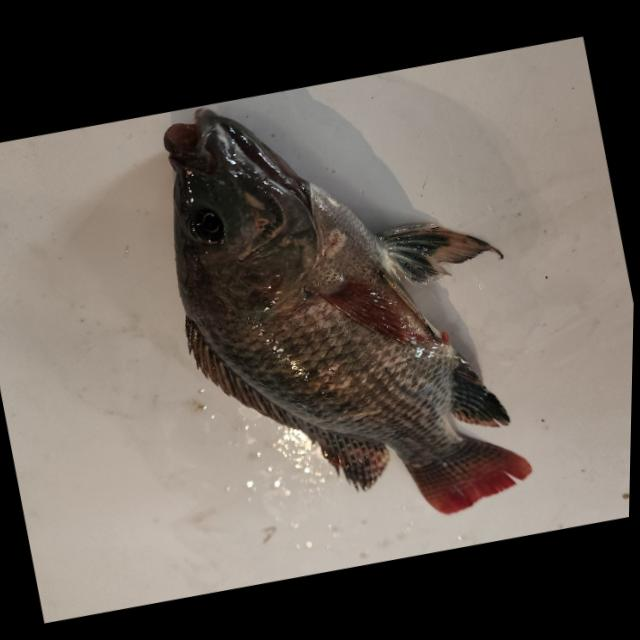Tilapia: (133, 55, 559, 566)
